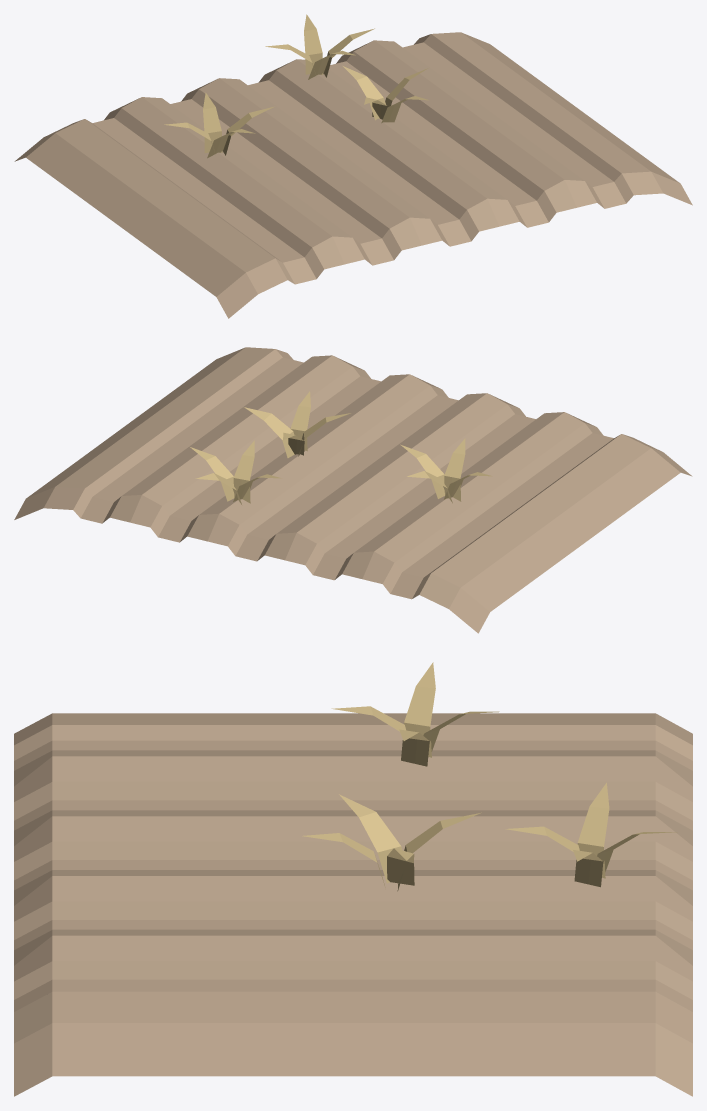
File: ER_Asset_Farm02.fbx
The picture shows the model from 3 angles, top to bottom: view 1: azimuth 30°, elevation 25°; view 2: azimuth 150°, elevation 25°; view 3: azimuth 270°, elevation 25°; orthographic projection. The views are drawn at different scales.
Visible parts, largest first — view 1: polySurface4343; view 2: polySurface4343; view 3: polySurface4343.
Part boxes in pixels (left/top/right/bottom): polySurface4343: left=14, top=14, right=692, bottom=318; polySurface4343: left=14, top=347, right=692, bottom=633; polySurface4343: left=14, top=662, right=692, bottom=1096.
Bounding box in the file's own units: 5 × 0.8352 × 4.
